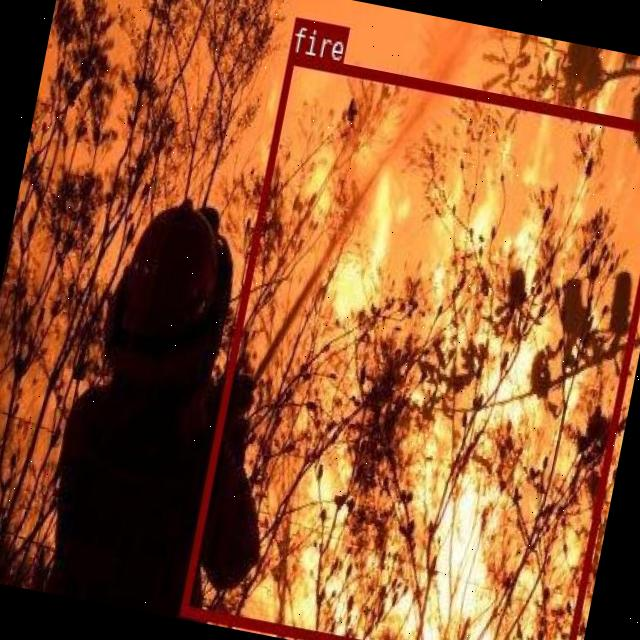fire: (179, 51, 640, 640)
